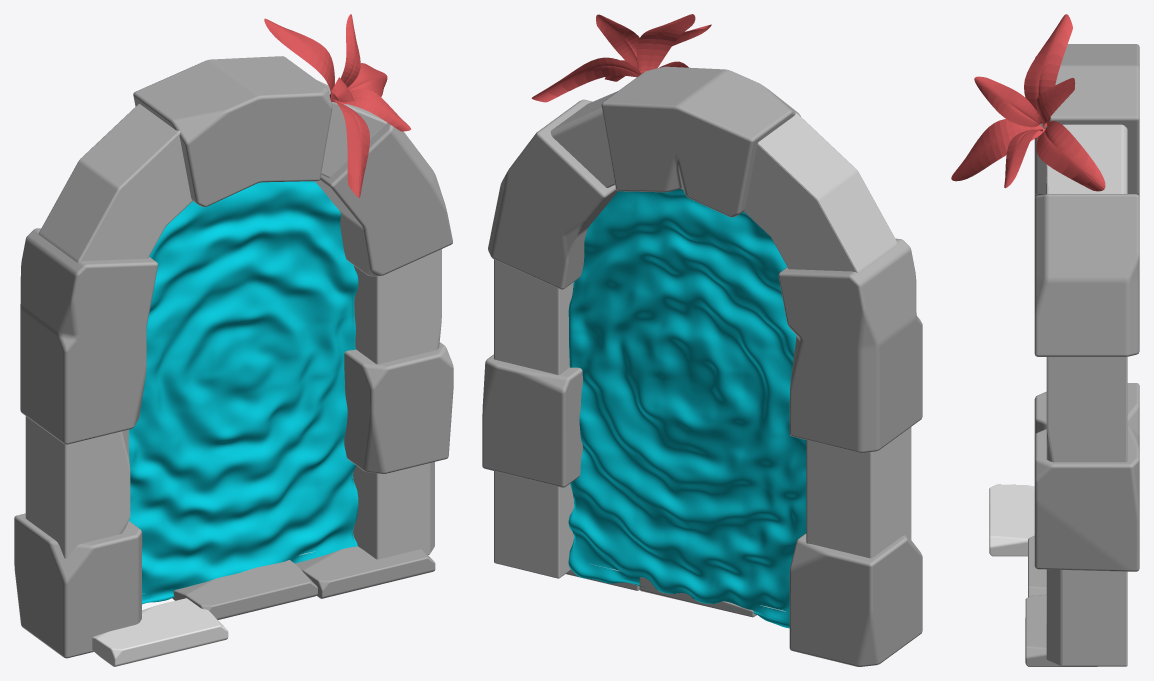
The model's file is portal.fbx.
3 views of the same model, side by side, from view 1: azimuth 30°, elevation 25°; view 2: azimuth 150°, elevation 25°; view 3: azimuth 270°, elevation 25° (orthographic).
Visible parts, largest first — view 1: Plane.001, Plane.003, Plane, Plane.009, Cube.001, Cube.002, Cube.003; view 2: Plane.003, Plane.001, Plane, Plane.009, Cube.002; view 3: Plane.001, Plane, Plane.009, Cube.001, Cube.003, Cube.002.
Boxes of the visible parts, box(x1,y1,x2,y2) form: Plane.001: box(14, 56, 453, 658); Plane.003: box(129, 181, 358, 604); Plane: box(25, 80, 441, 559); Plane.009: box(264, 14, 410, 197); Cube.001: box(92, 598, 228, 666); Cube.002: box(172, 560, 317, 619); Cube.003: box(295, 546, 435, 598); Plane.003: box(568, 189, 806, 628); Plane.001: box(482, 66, 922, 666); Plane: box(494, 91, 911, 578); Plane.009: box(531, 14, 711, 102); Cube.002: box(639, 577, 756, 617); Plane.001: box(1034, 44, 1139, 571); Plane: box(1046, 124, 1127, 666); Plane.009: box(951, 14, 1105, 191); Cube.001: box(989, 484, 1034, 556); Cube.003: box(1025, 595, 1097, 666); Cube.002: box(1028, 535, 1046, 597).
Size of the model in its own units: 317 by 448 by 132.
